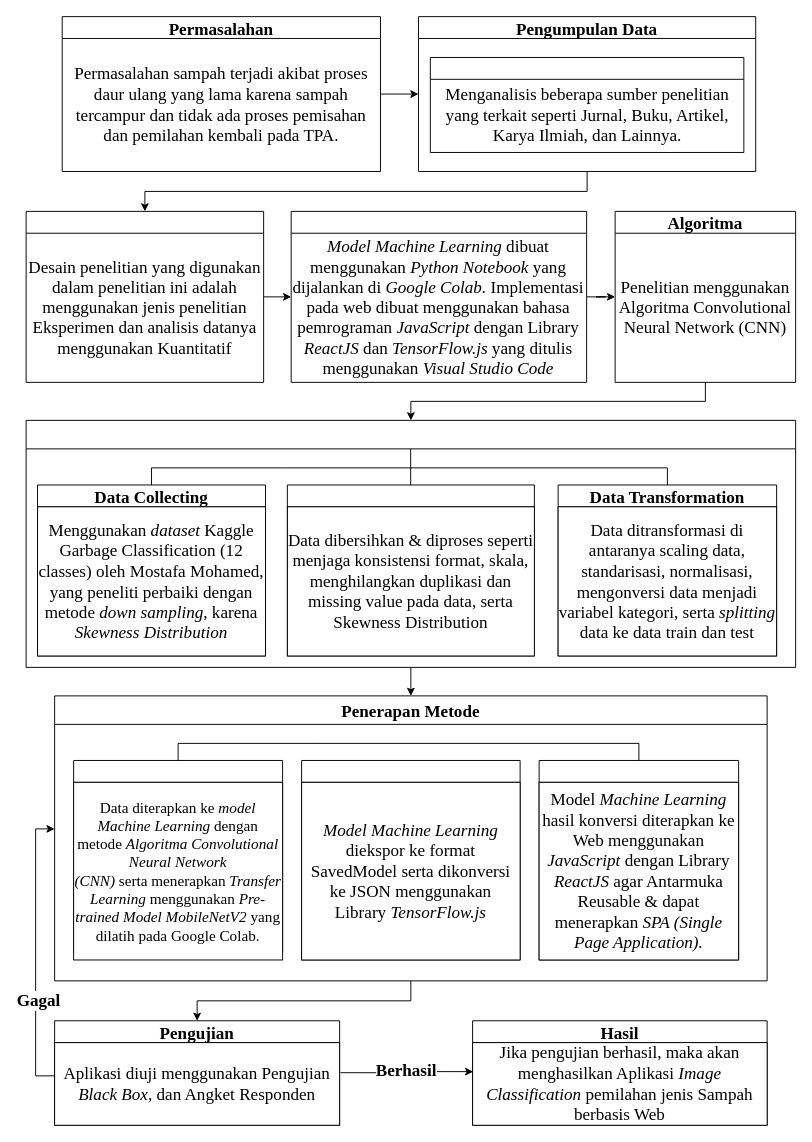
The diagram is 812 pixels wide and 1142 high, and some of its shapes have lost their labels. Here are the shapes that lost their labels. From the top down, the box of each, then its label:
(429, 57, 744, 152): Studi Pustaka
(25, 210, 264, 382): Metode Penelitian
(290, 210, 587, 382): Alat
(25, 419, 796, 667): Pengelolaan Data Awal
(286, 484, 534, 656): Data Cleaning
(73, 760, 283, 952): Pembuatan Model
(301, 760, 520, 960): Ekspor dan Konversi Model
(538, 760, 739, 960): Penerapan pada Web
